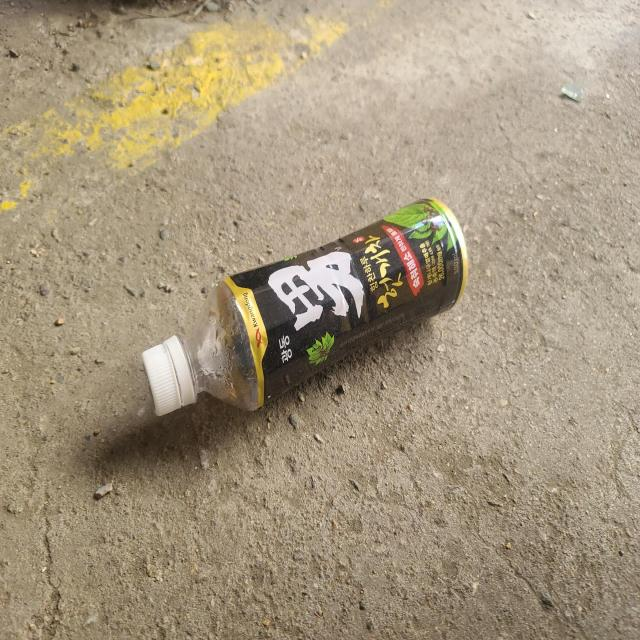plastic: (142, 198, 468, 416)
